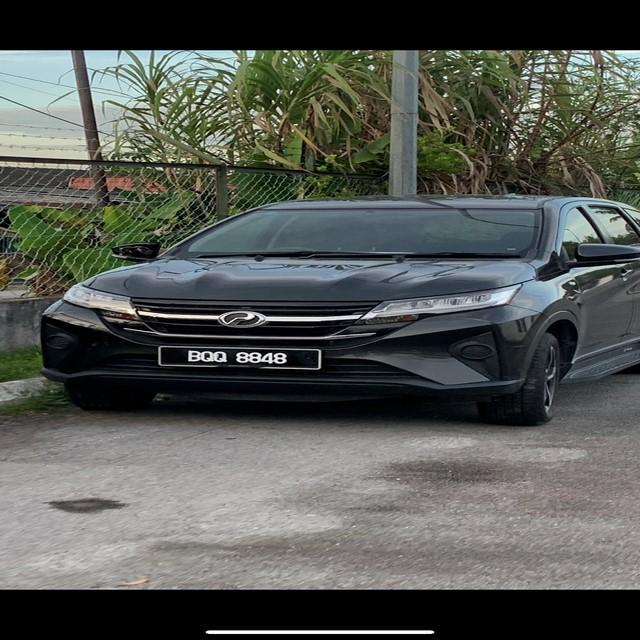License_Plate: (153, 339, 333, 383)
car: (26, 186, 640, 433)
